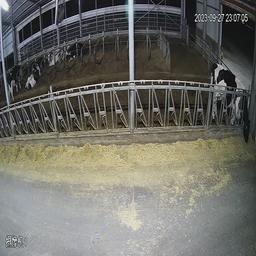cow: (209, 55, 252, 148), (3, 58, 23, 109), (22, 63, 46, 96), (63, 33, 86, 65), (41, 35, 63, 66)
